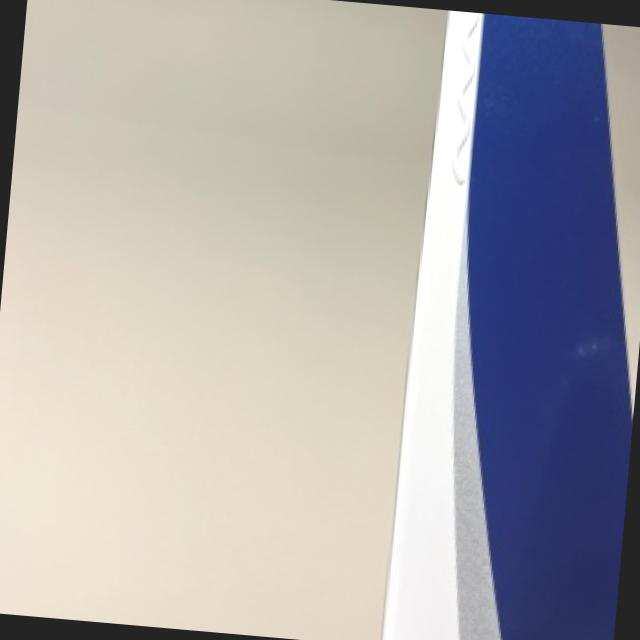healthy: (384, 10, 640, 640)
